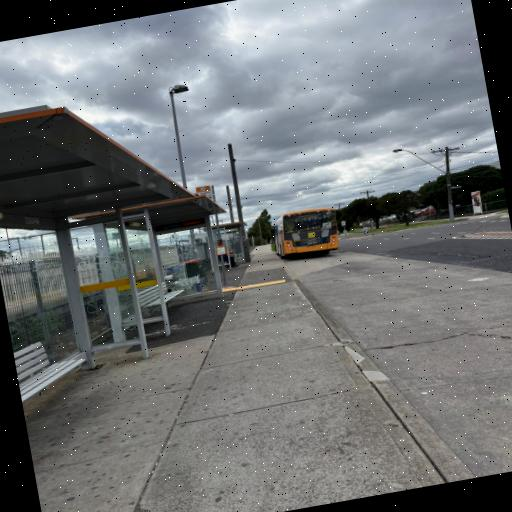clear_path: (134, 252, 433, 512)
platform_edge: (271, 249, 431, 437)
signage: (215, 237, 231, 257), (195, 185, 212, 200)
tgsi: (222, 278, 285, 291)
